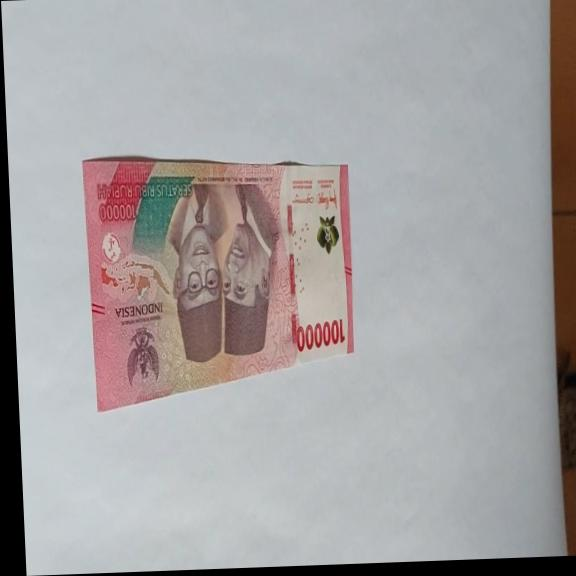Kertas: (81, 148, 358, 413), (295, 318, 346, 354)
